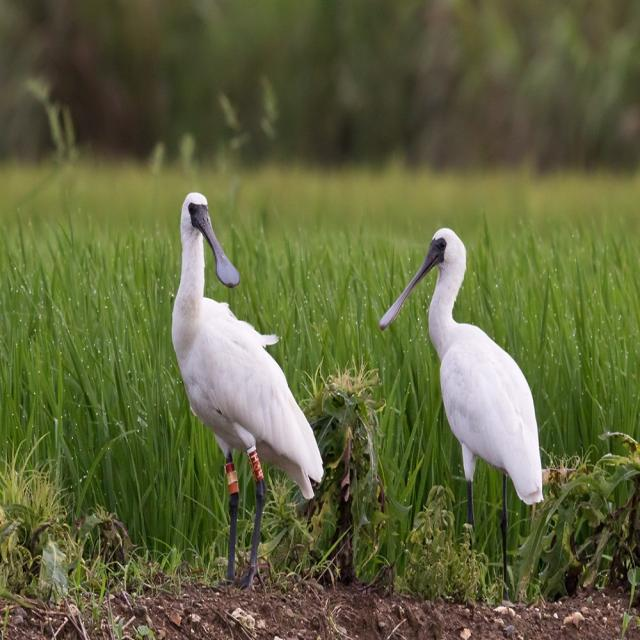Black-faced spoonbill: (380, 229, 542, 597), (172, 193, 323, 586)
